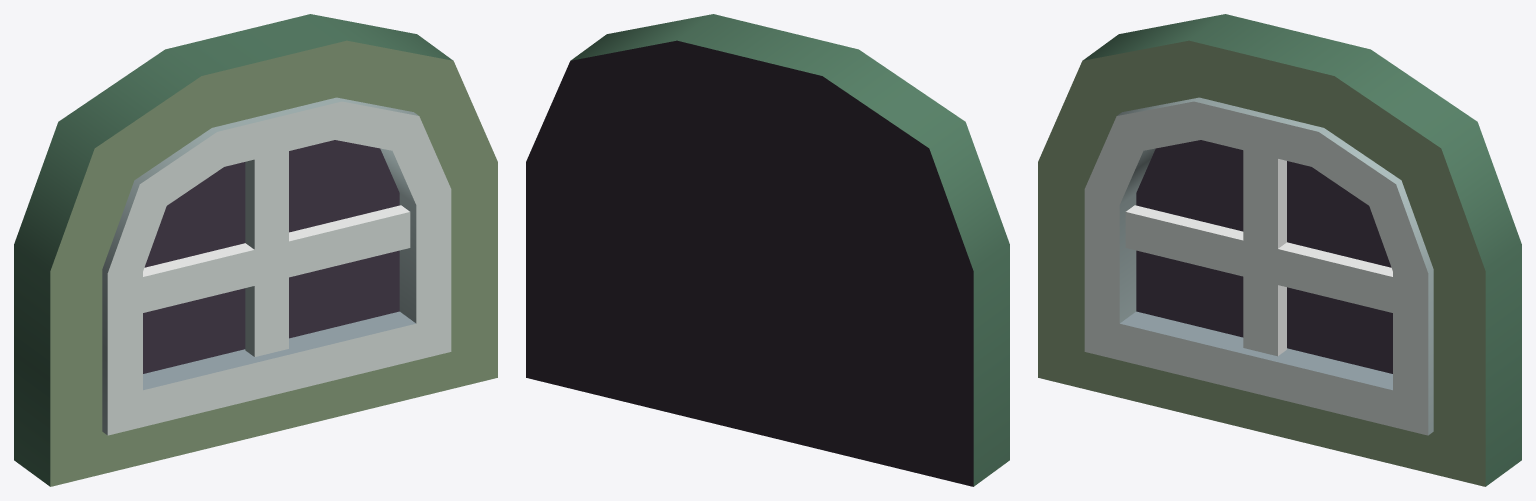
The model's file is Window01_Green_White.glb.
3 views of the same model, side by side, from view 1: azimuth 30°, elevation 25°; view 2: azimuth 150°, elevation 25°; view 3: azimuth 330°, elevation 25° (orthographic).
Parts seen in each view (by area): view 1: Window01_Green_White; view 2: Window01_Green_White; view 3: Window01_Green_White.
Boxes of the visible parts, x1,y1,x2,y2 form: Window01_Green_White: (14,14,497,486); Window01_Green_White: (526,14,1009,486); Window01_Green_White: (1038,14,1521,486).
Bounding box in the file's own units: 0.8998 × 0.7186 × 0.1456.
1 material, 1 textured.
